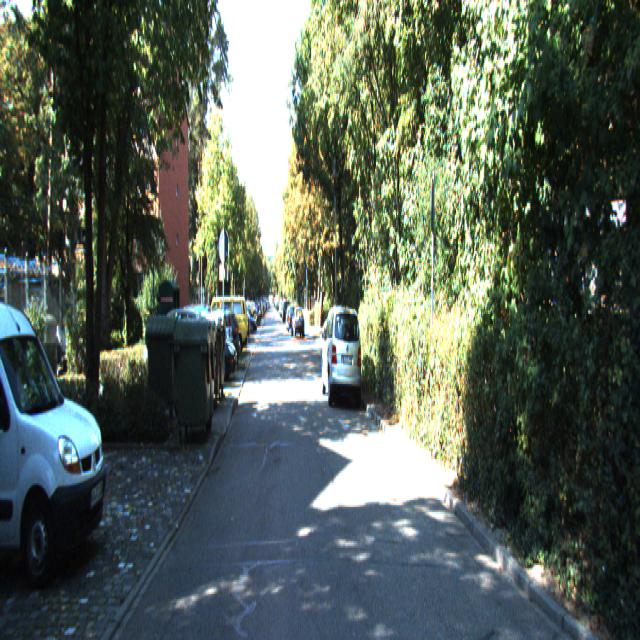Car: (0, 282, 112, 582), (320, 303, 363, 410), (206, 294, 247, 355), (291, 308, 305, 339)
